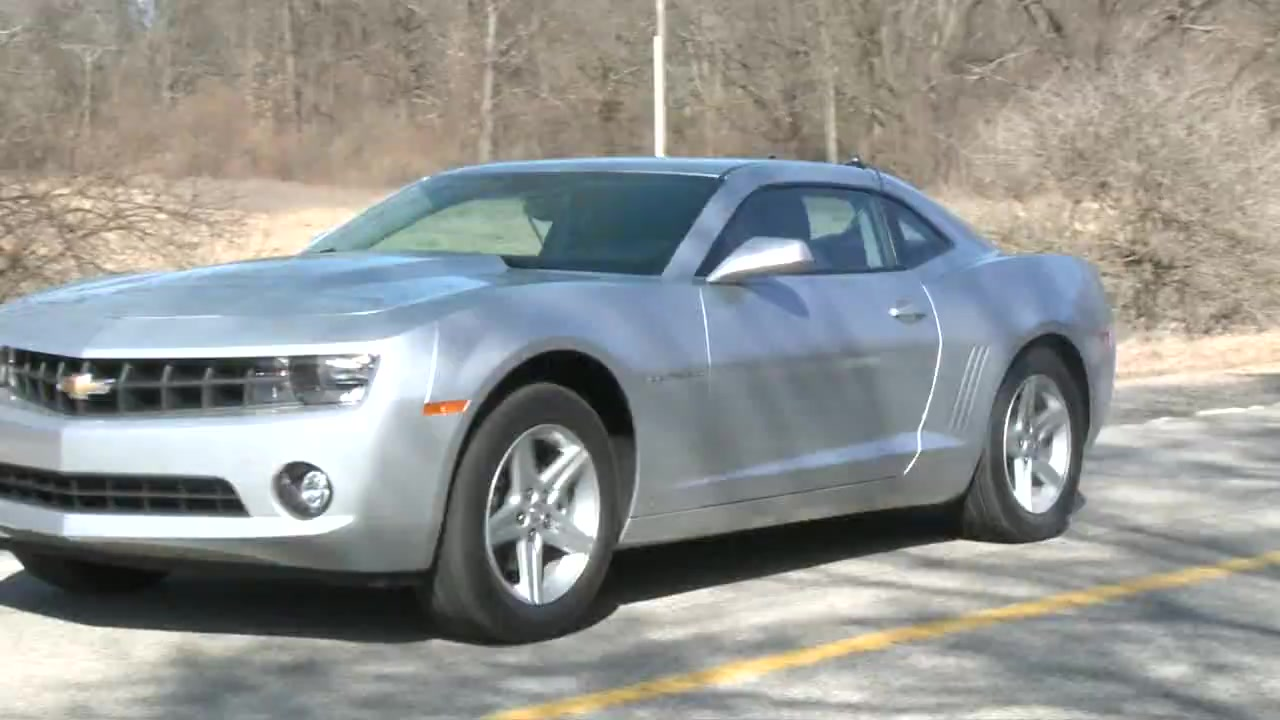car: (1, 158, 1122, 650)
